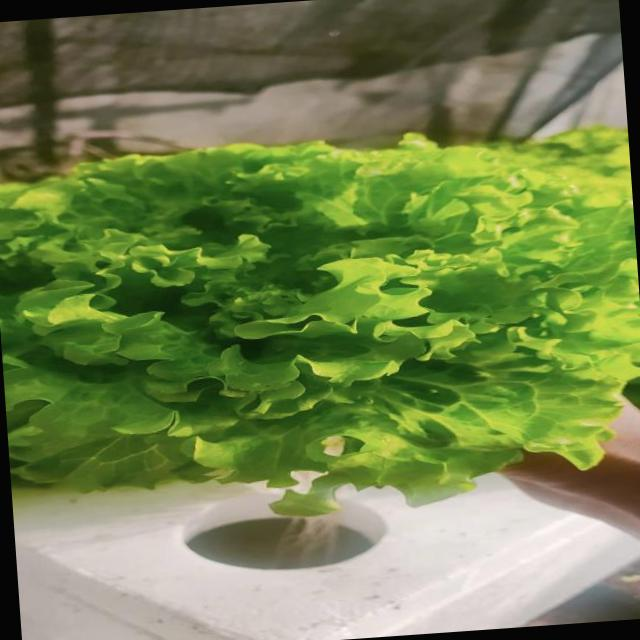Lettuce-Ready-to-Harvest: (0, 125, 640, 522)
